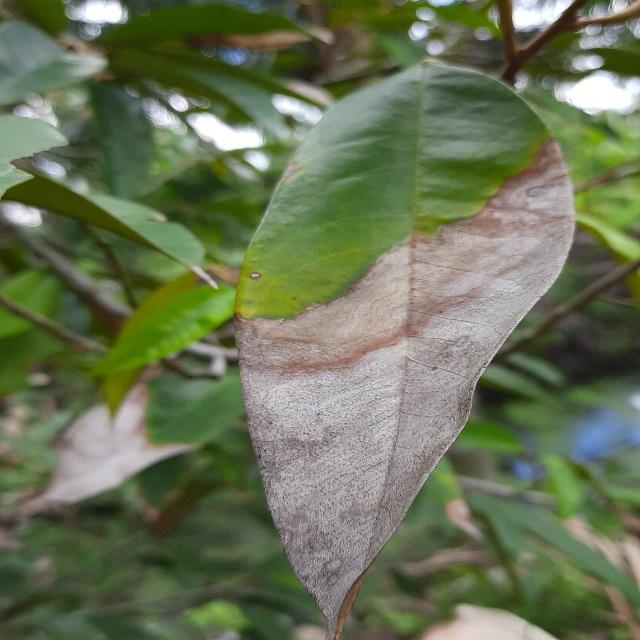Leaf Blight: (219, 49, 587, 640)
